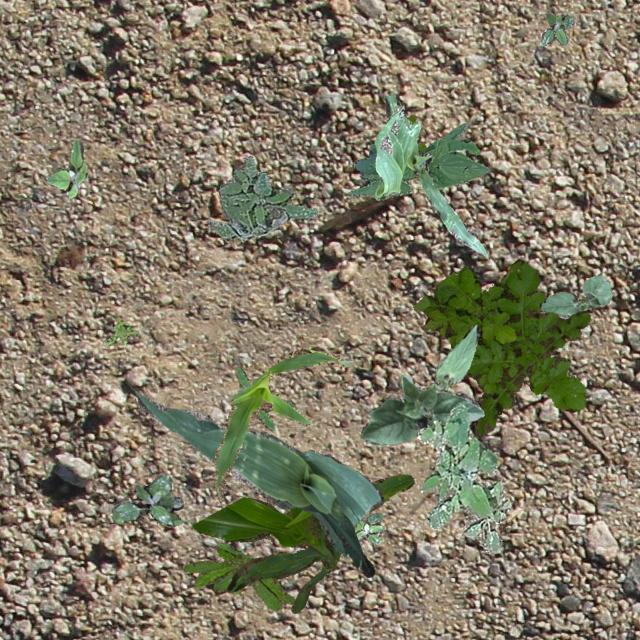crop: (130, 389, 382, 576), (192, 473, 412, 612), (213, 348, 351, 502), (384, 94, 486, 255), (348, 122, 488, 198), (359, 374, 484, 444), (374, 104, 419, 200), (538, 274, 612, 316), (434, 324, 478, 391)
weed: (412, 258, 590, 434), (416, 402, 510, 554), (206, 154, 316, 240), (183, 542, 294, 610), (110, 472, 182, 526), (235, 366, 295, 430), (46, 138, 86, 196), (540, 10, 574, 44), (104, 316, 138, 344), (353, 512, 382, 542), (406, 114, 424, 152)
